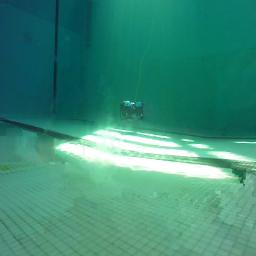front: (120, 101, 145, 121)
